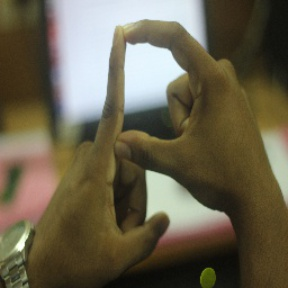D: (96, 13, 221, 191)
